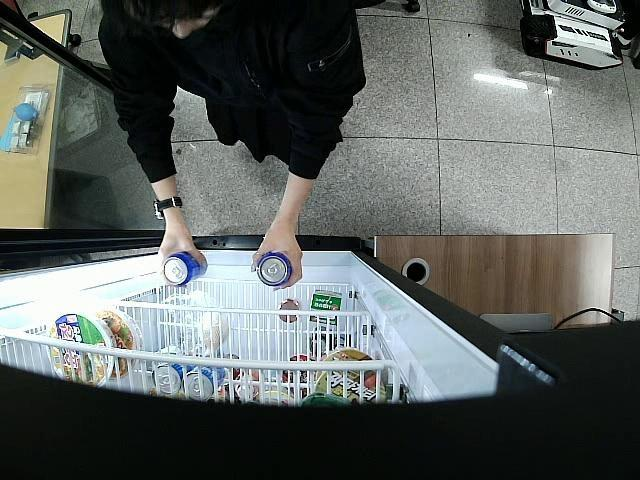13_pocariSweat: (164, 248, 208, 285), (257, 252, 292, 287)
